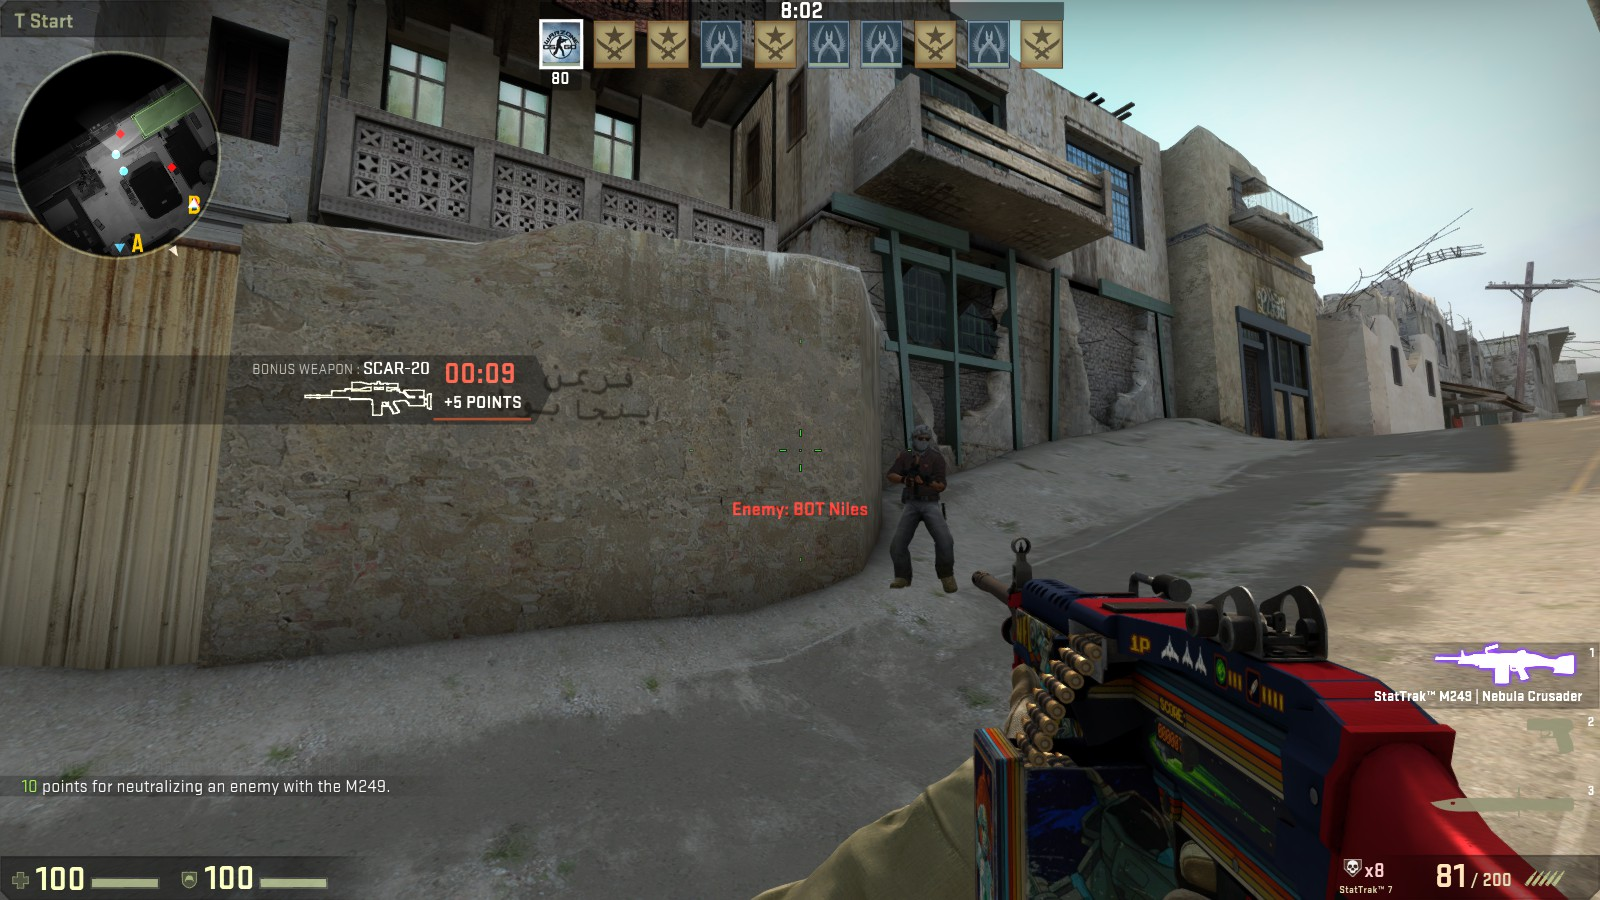t: (888, 416, 958, 596)
th: (905, 419, 936, 458)
